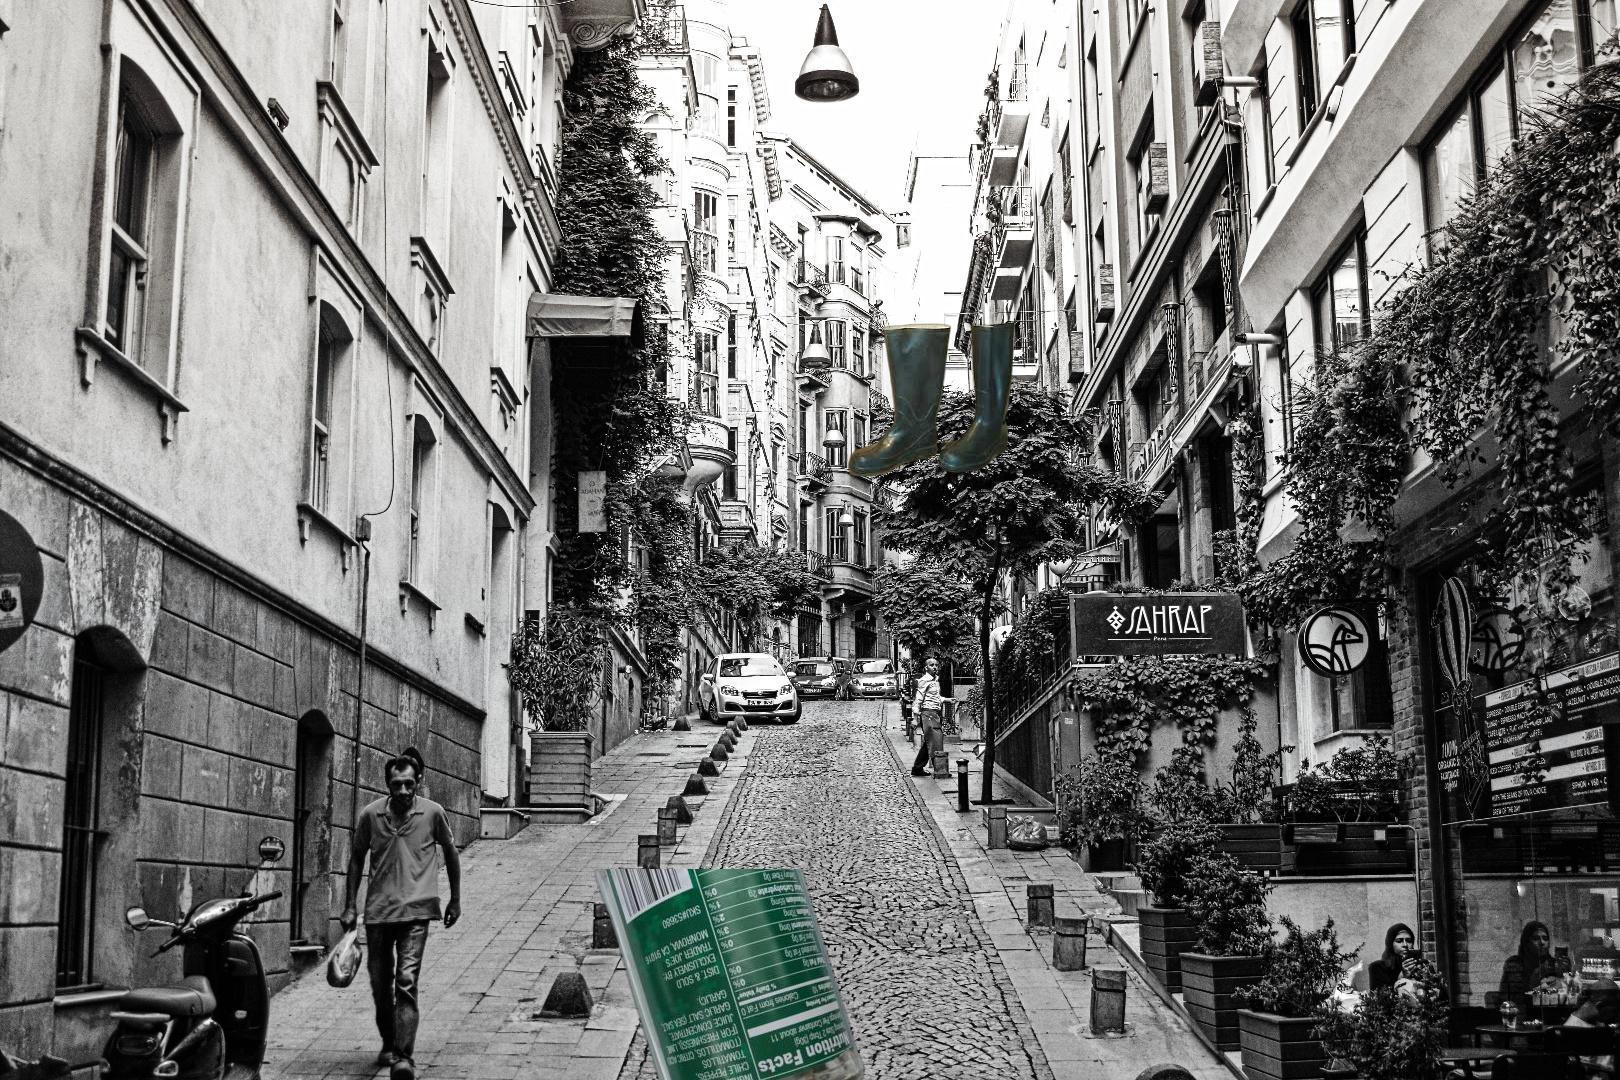glass: (589, 869, 885, 1080)
shoes: (847, 319, 1017, 479)
